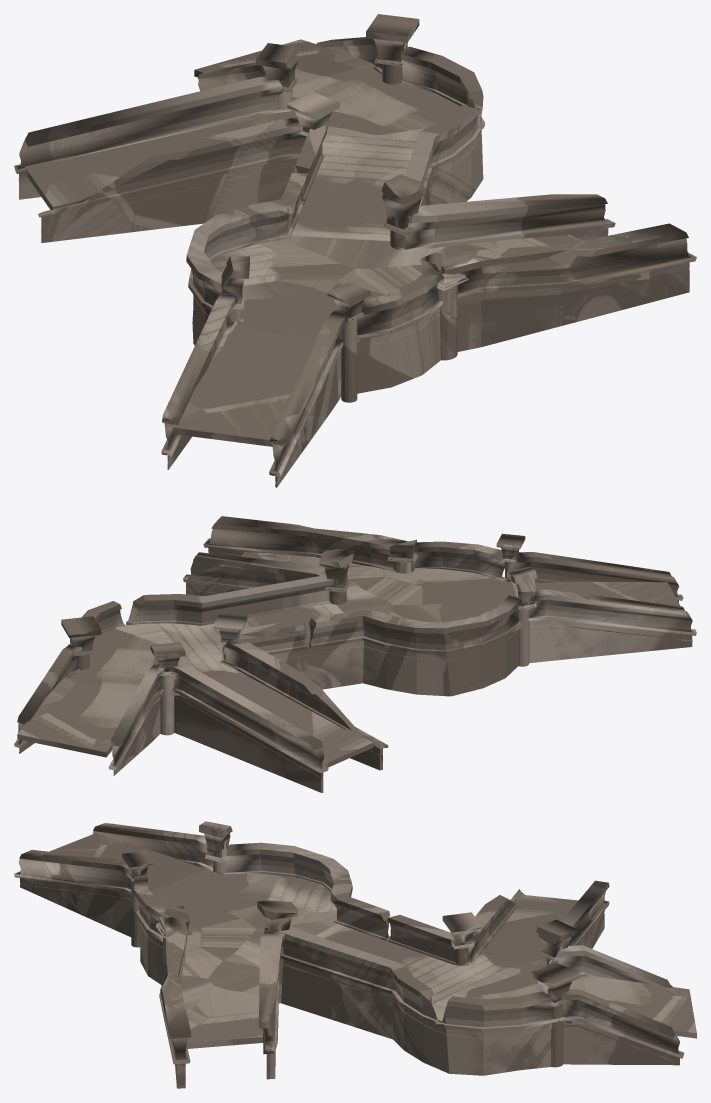
Rendered from camino puzle full.fbx.
The picture shows the model from 3 angles, top to bottom: view 1: azimuth 30°, elevation 25°; view 2: azimuth 150°, elevation 25°; view 3: azimuth 270°, elevation 25°; orthographic projection. The views are drawn at different scales.
Visible parts, largest first — view 1: suelo_puzle1; view 2: suelo_puzle1; view 3: suelo_puzle1.
Boxes of the visible parts, x1,y1,x2,y2 form: suelo_puzle1: [14, 14, 696, 487]; suelo_puzle1: [14, 516, 696, 792]; suelo_puzle1: [14, 821, 696, 1088].
Size of the model in its own units: 27.53 by 5.26 by 34.35.
